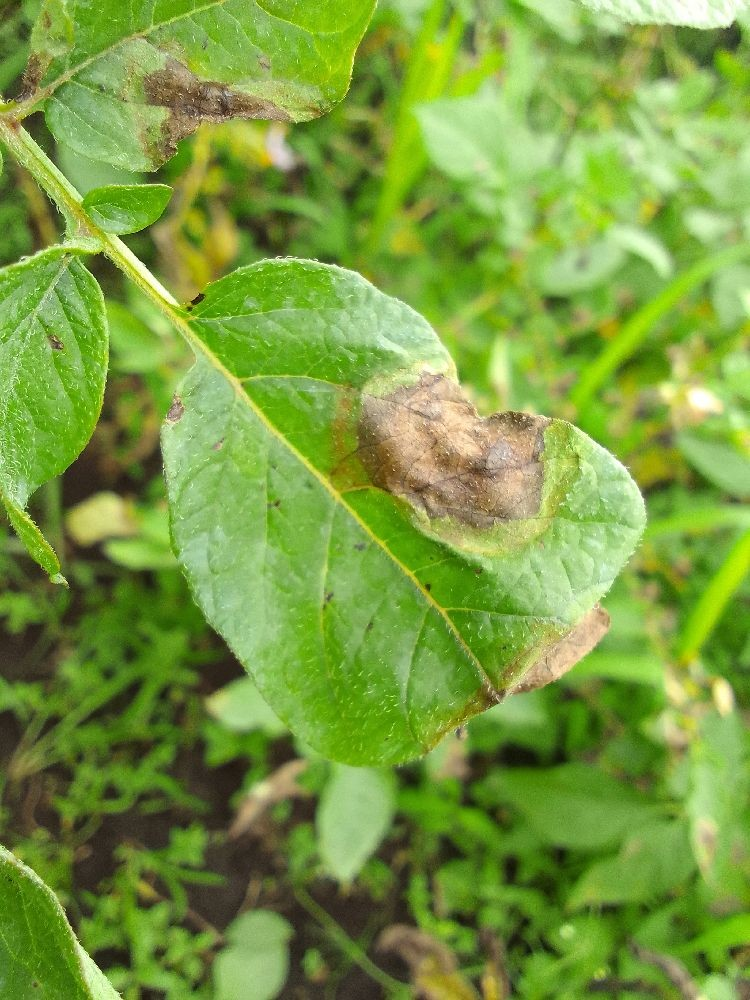late_blight: (0, 686, 529, 999), (304, 347, 577, 571), (127, 44, 307, 177), (0, 148, 75, 267)
